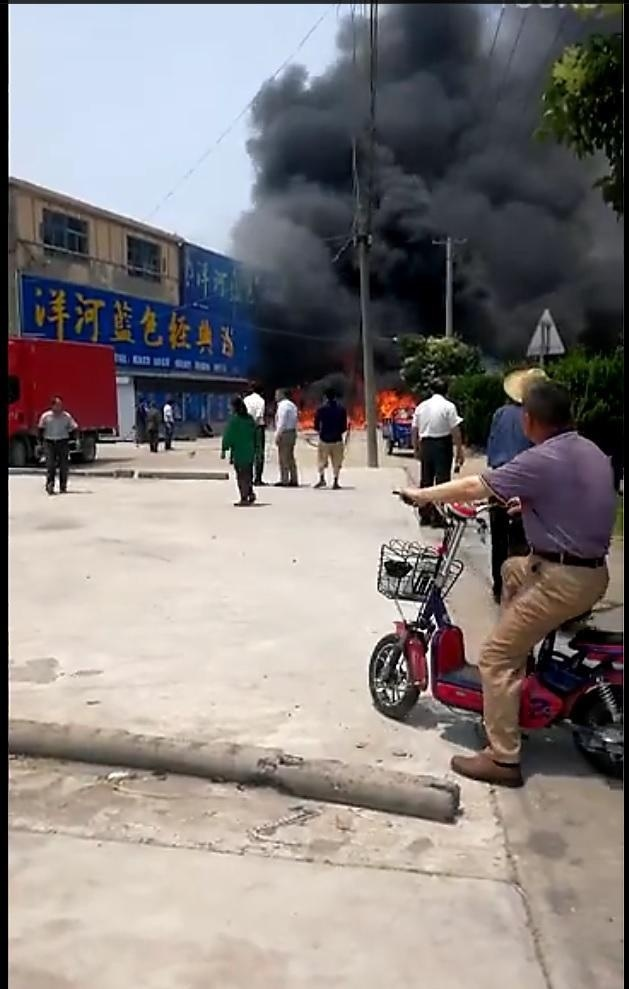fire: (287, 376, 415, 433)
